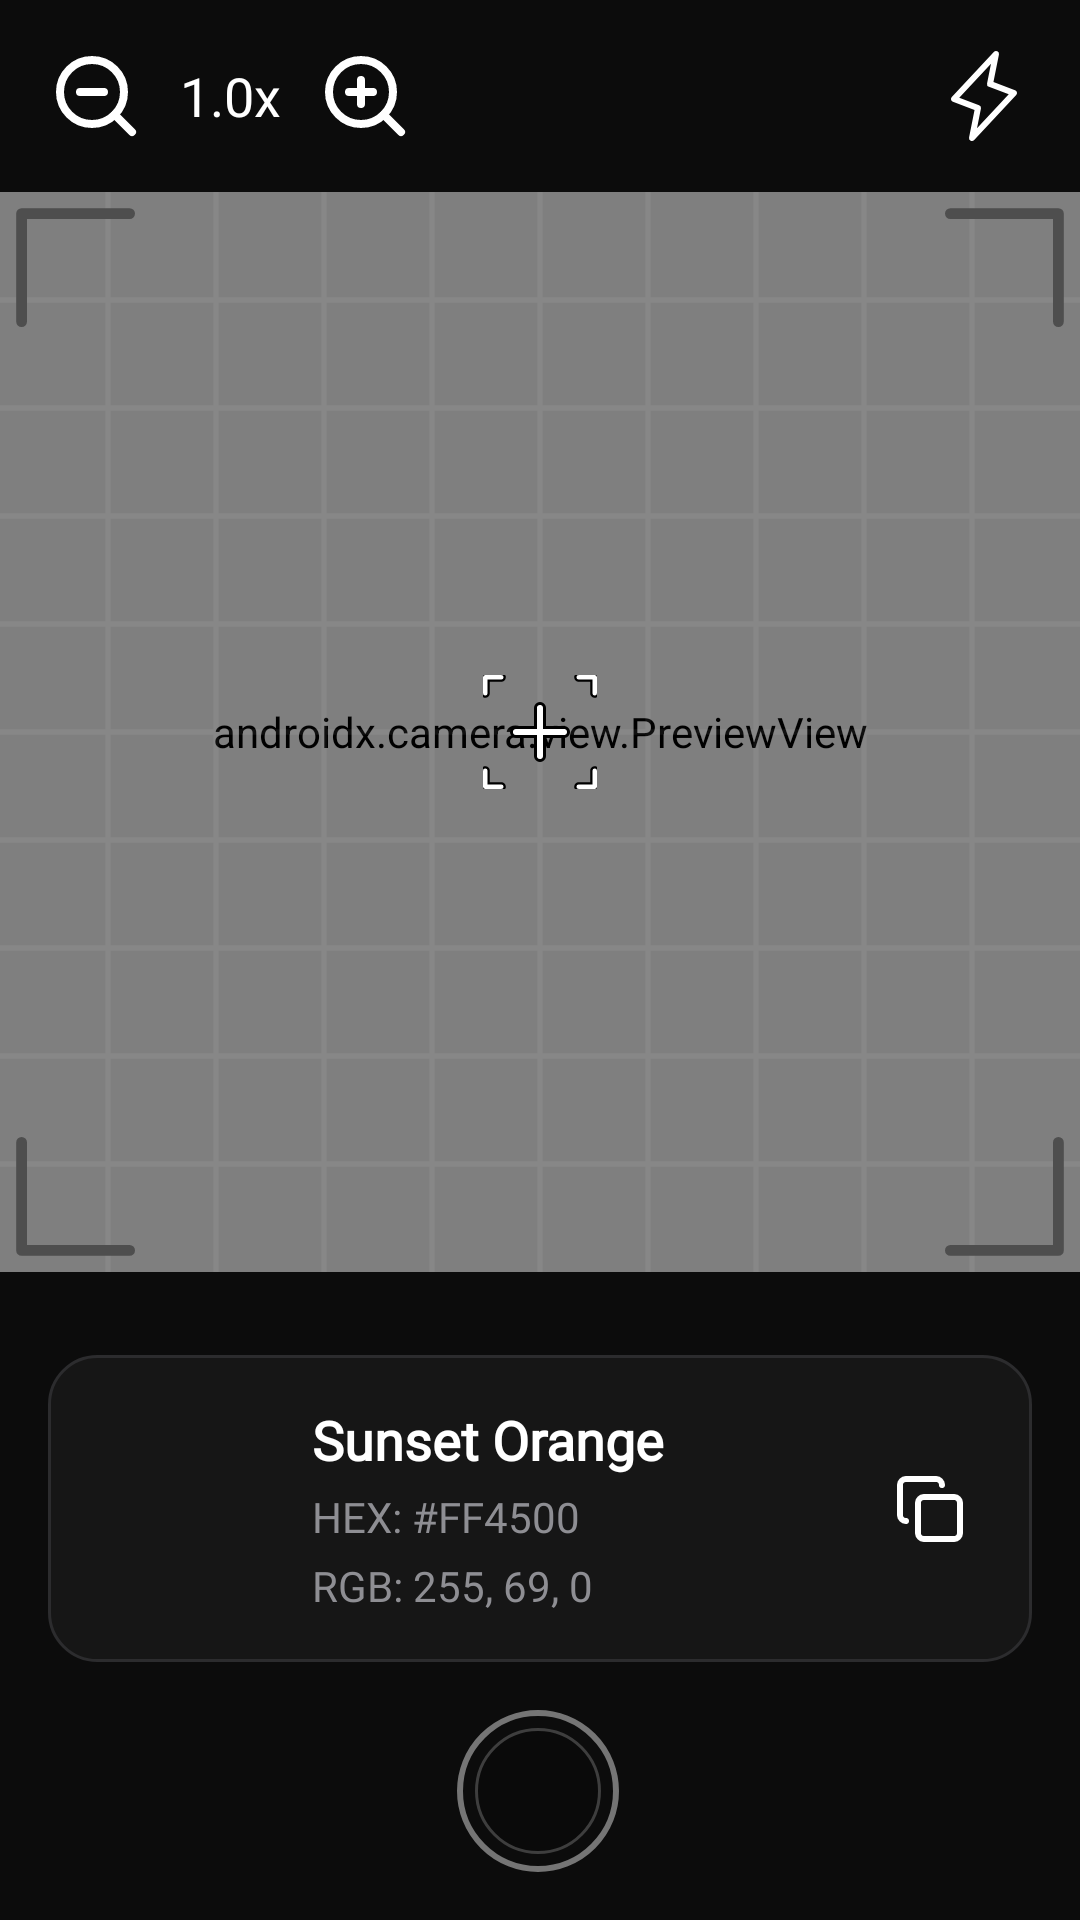

Icons on this 1080×1920 Android screen, each with the point to tap as point (x, y):
crosshair: point (540, 732)
zoom in: point (365, 96)
zoom out: point (96, 96)
